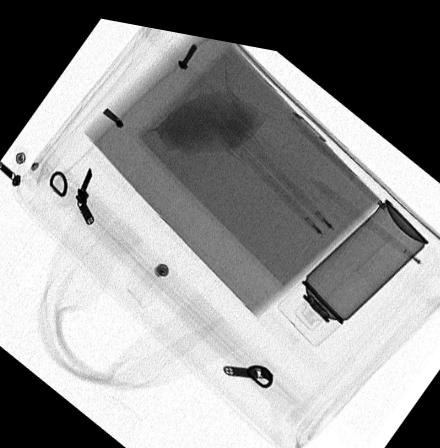Sprayer: (275, 182, 428, 333)
